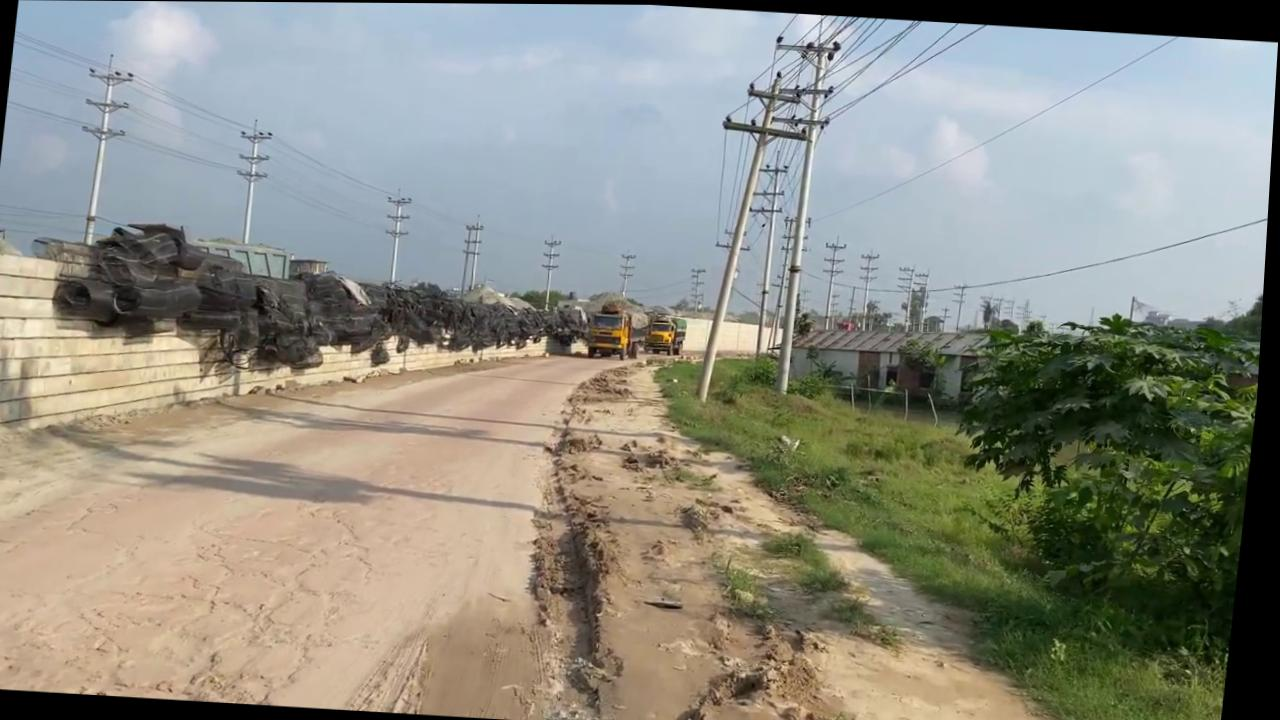Garbage: (21, 214, 602, 389)
Light-pole: (69, 52, 136, 246)
Pole: (696, 67, 814, 405), (230, 117, 275, 245)
Rickshaw: (526, 349, 1147, 720)
Traffic-sign: (937, 297, 1266, 660)
Tree: (587, 305, 639, 359), (645, 313, 691, 355), (629, 309, 652, 358)
Upstairs: (0, 249, 585, 468)
